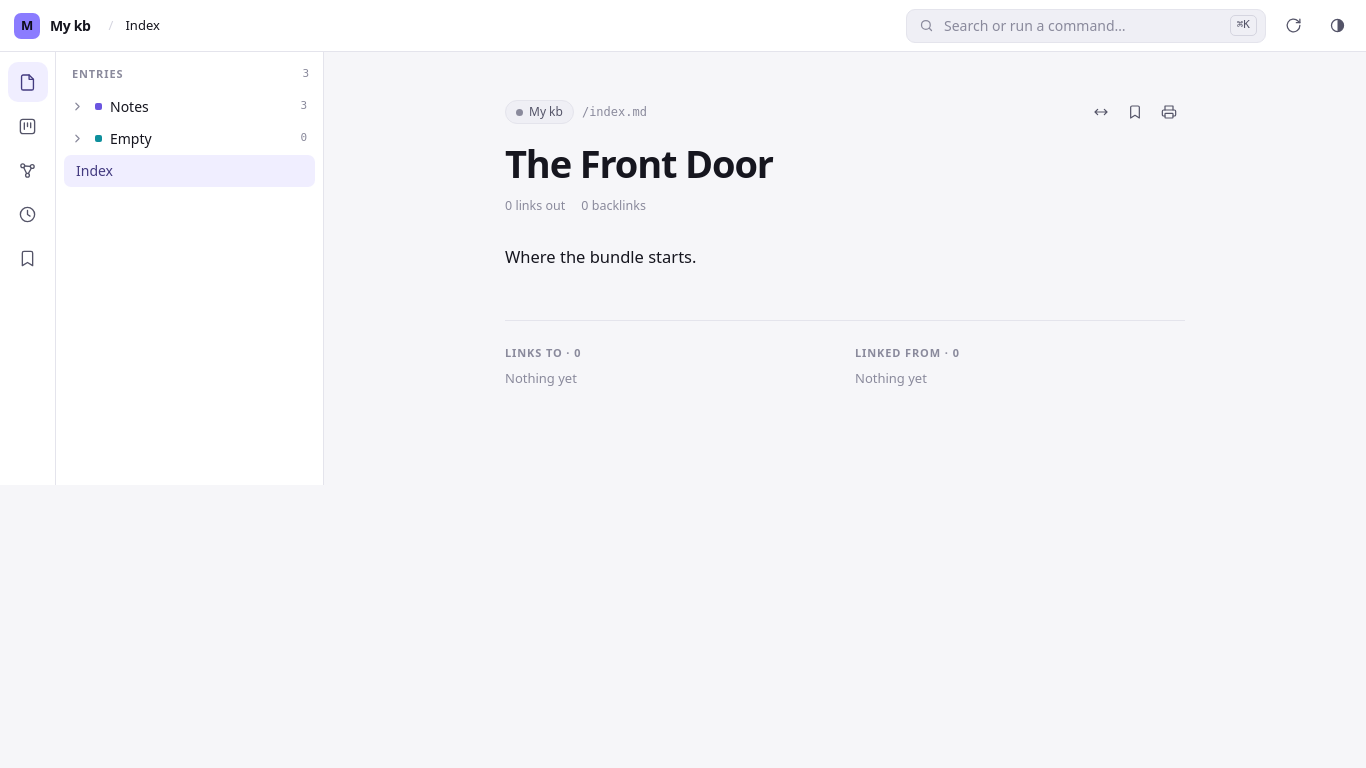
Scenario: a refused board keeps you on the form and says why
Step 1. Click the button named "Boards" → click(28, 126), box x1=8 y1=106 x2=48 y2=146
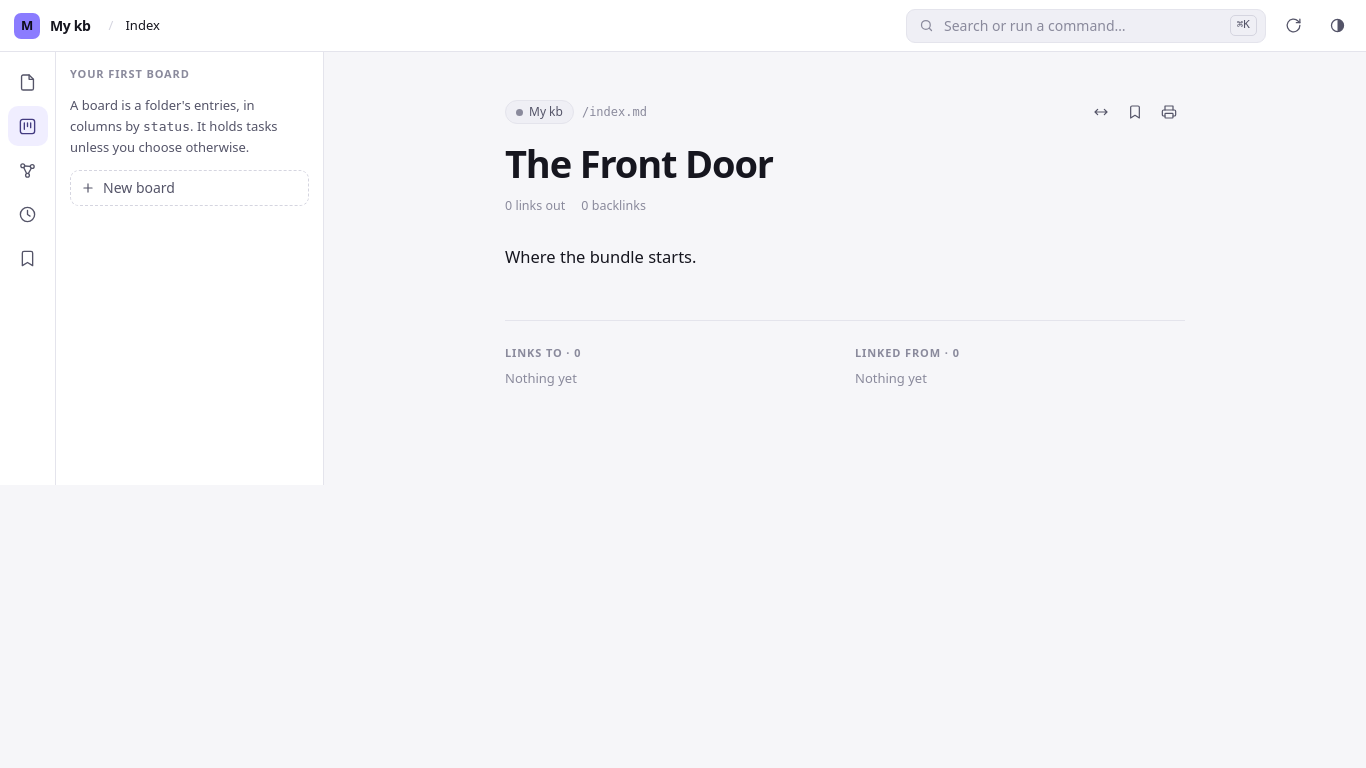
Step 2. Click the button "New board" → click(190, 188), box x1=70 y1=170 x2=309 y2=206
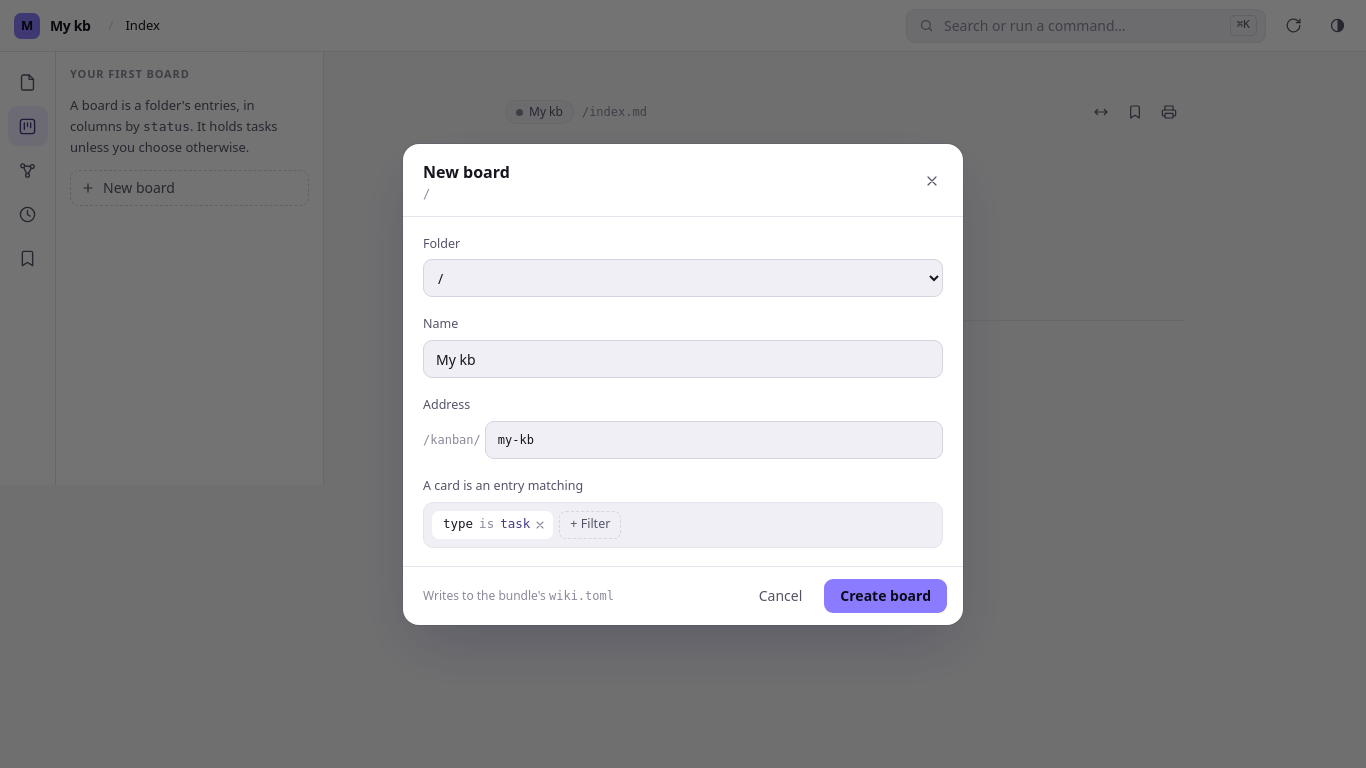
Step 3. Submit the dialog named "New board", box x1=403 y1=144 x2=963 y2=624
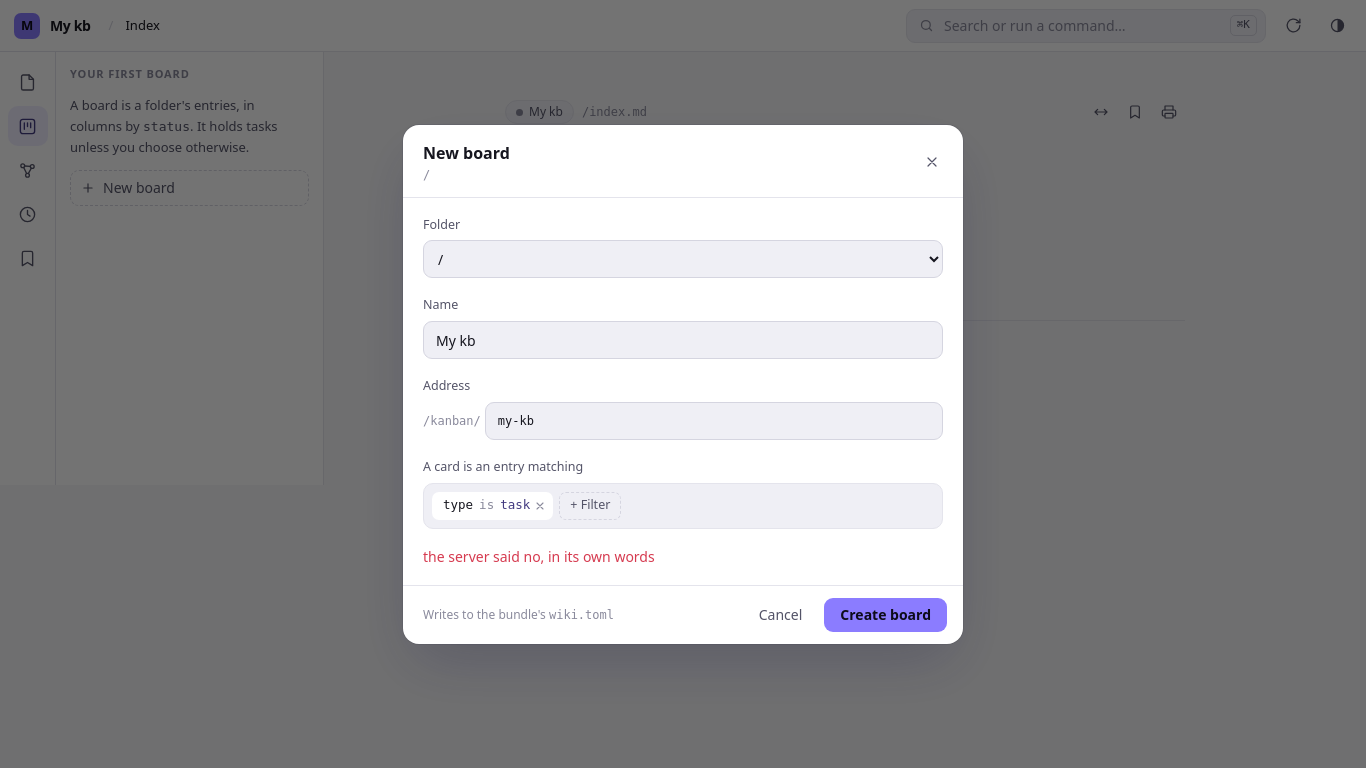
expect the dialog named "New board" is shown: met, box x1=403 y1=124 x2=963 y2=644
expect the dialog named "New board" shows "the server said no, in its own words": met, box x1=423 y1=546 x2=655 y2=566
